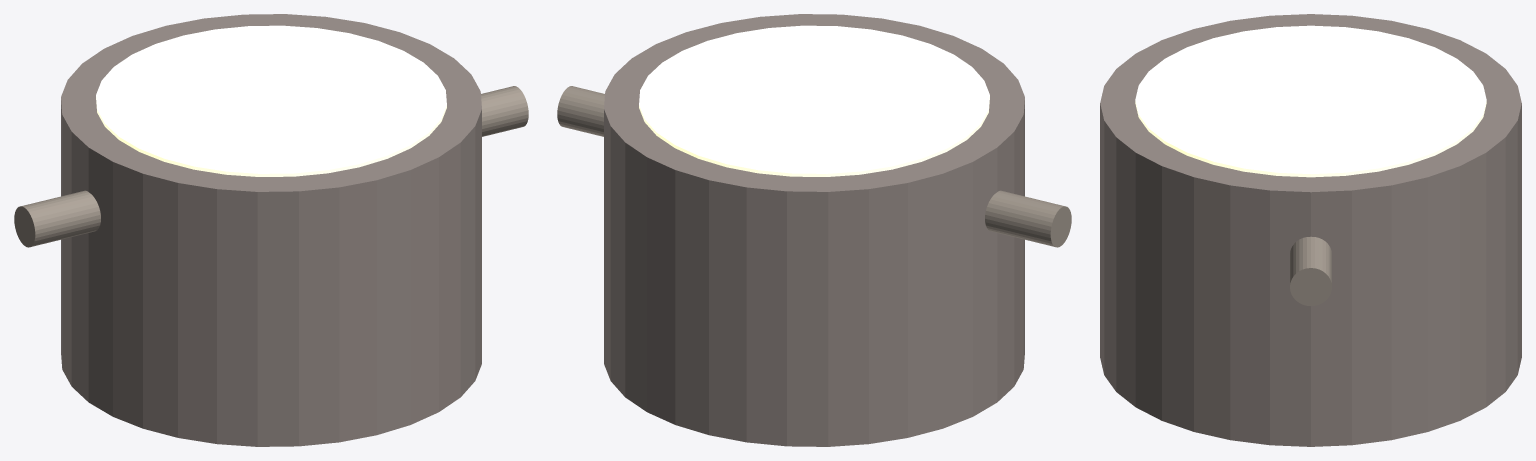
The model's file is slag_ladle.fbx.
3 views of the same model, side by side, from view 1: azimuth 30°, elevation 25°; view 2: azimuth 150°, elevation 25°; view 3: azimuth 270°, elevation 25° (orthographic).
Visible parts, largest first — view 1: LadleShell, MoltenSlag, Cylinder, Cylinder.001; view 2: LadleShell, MoltenSlag, Cylinder, Cylinder.001; view 3: LadleShell, MoltenSlag, Cylinder.001.
Part boxes in pixels (left/top/right/bottom): LadleShell: left=61, top=14, right=481, bottom=446; MoltenSlag: left=96, top=25, right=446, bottom=176; Cylinder: left=14, top=190, right=100, bottom=247; Cylinder.001: left=481, top=86, right=528, bottom=136; LadleShell: left=604, top=14, right=1024, bottom=446; MoltenSlag: left=639, top=25, right=989, bottom=176; Cylinder: left=985, top=190, right=1071, bottom=247; Cylinder.001: left=557, top=86, right=604, bottom=136; LadleShell: left=1100, top=14, right=1521, bottom=446; MoltenSlag: left=1135, top=25, right=1486, bottom=177; Cylinder.001: left=1290, top=236, right=1331, bottom=305.
Size of the model in its own units: 810 by 405 by 600.
